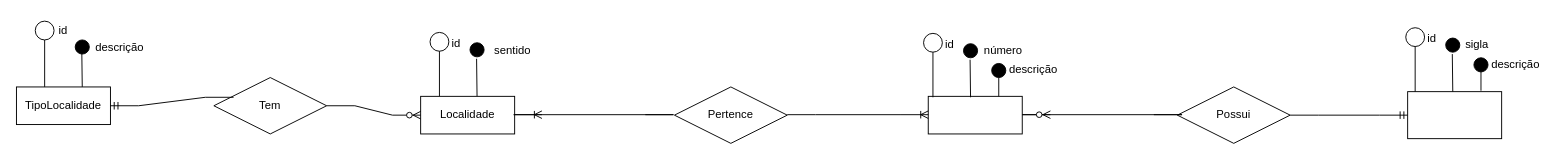
Image size: 1560x160. Some labels were removed from this diagram. The centre of each missing label's shape, as x and y in pixels:
"Linha" goes at [974,114].
"Prefixo" goes at [1454,115].
